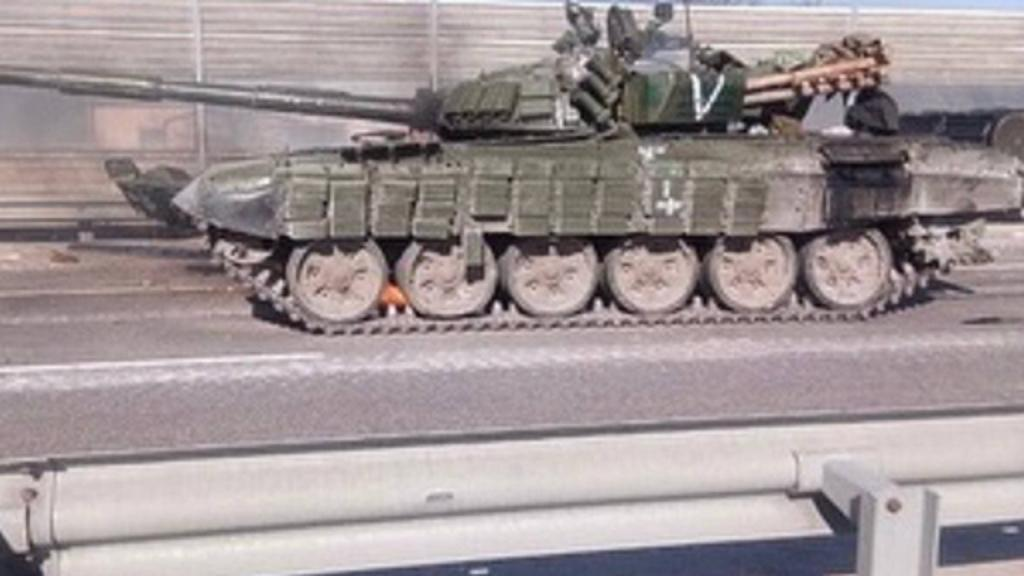TANK: (0, 14, 1016, 318)
